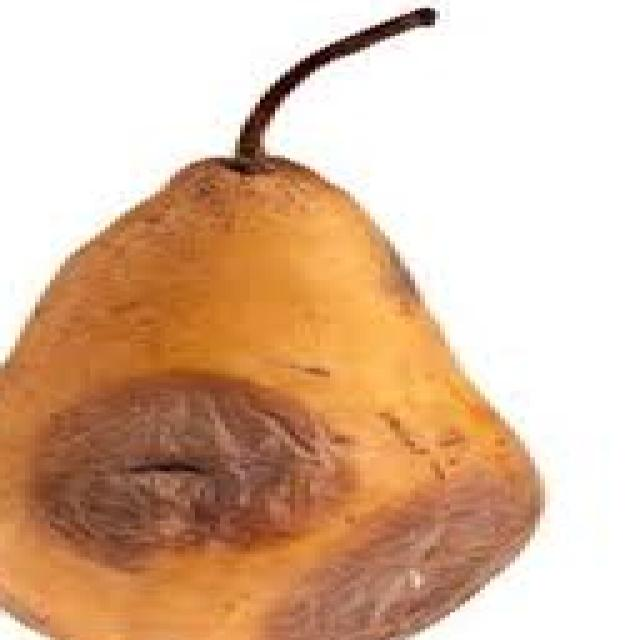inorganic: (10, 83, 594, 627)
